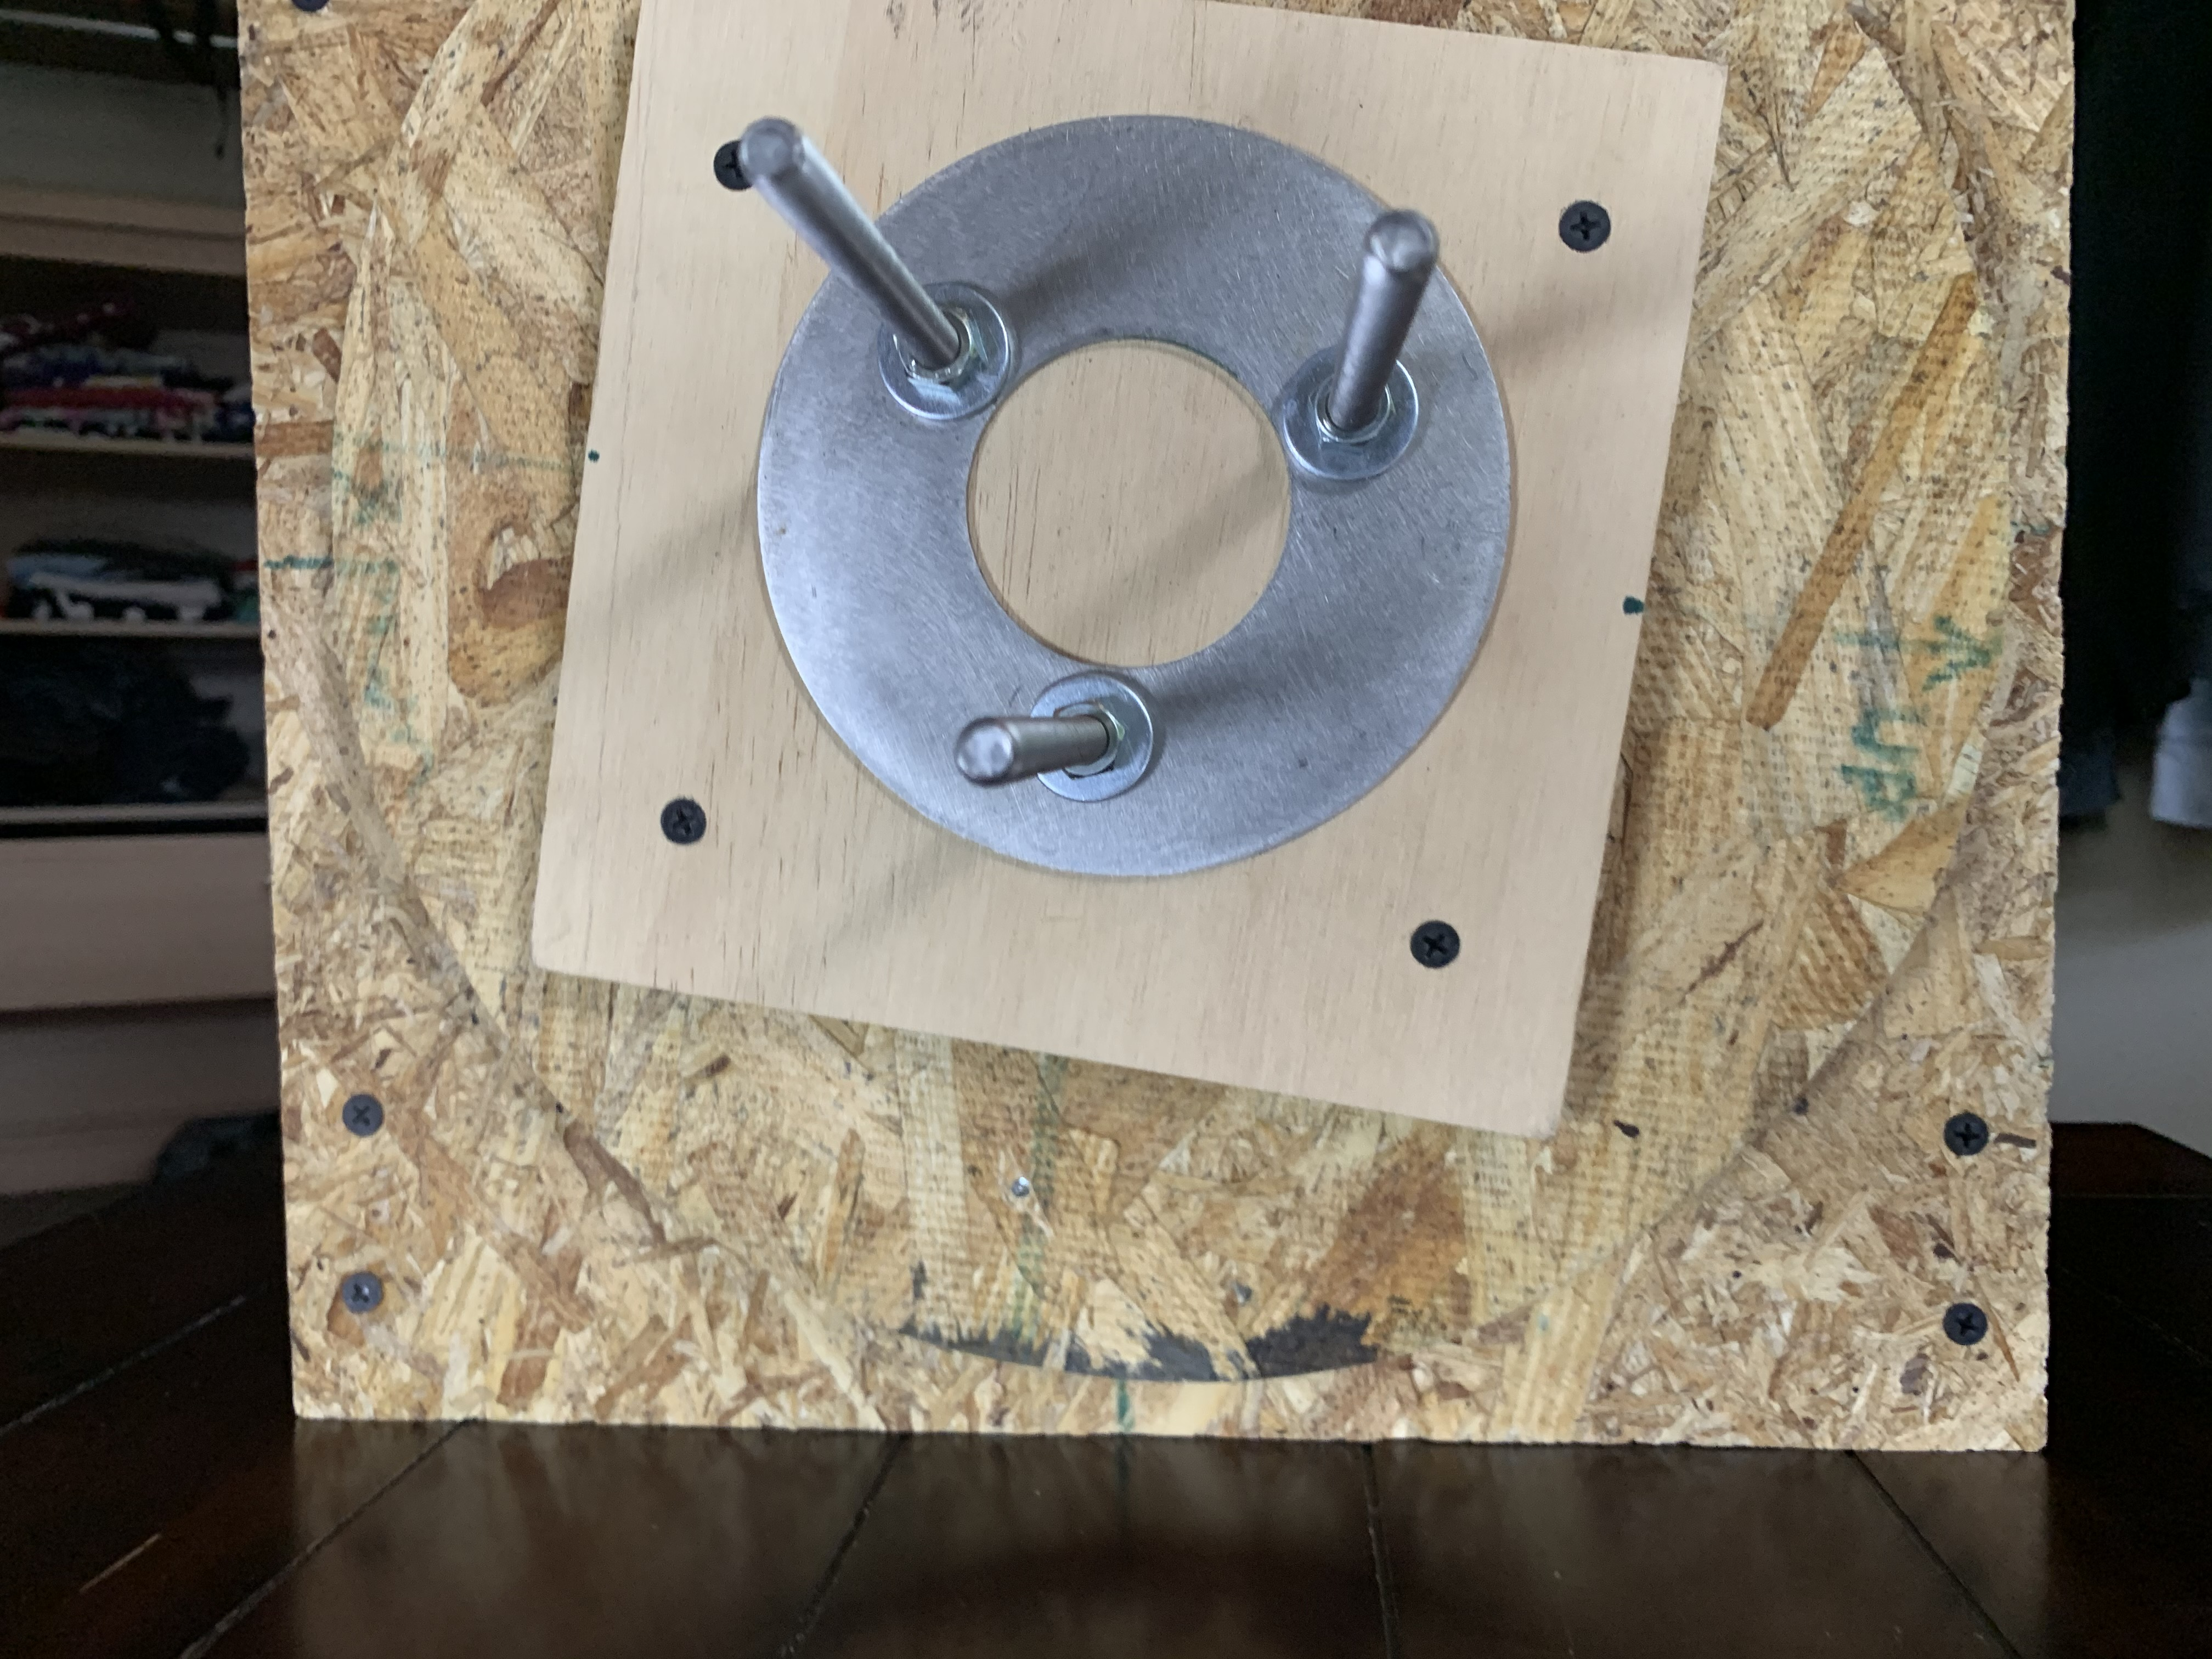bolt: (876, 277, 1024, 429), (1278, 347, 1426, 488), (1022, 671, 1165, 807)
